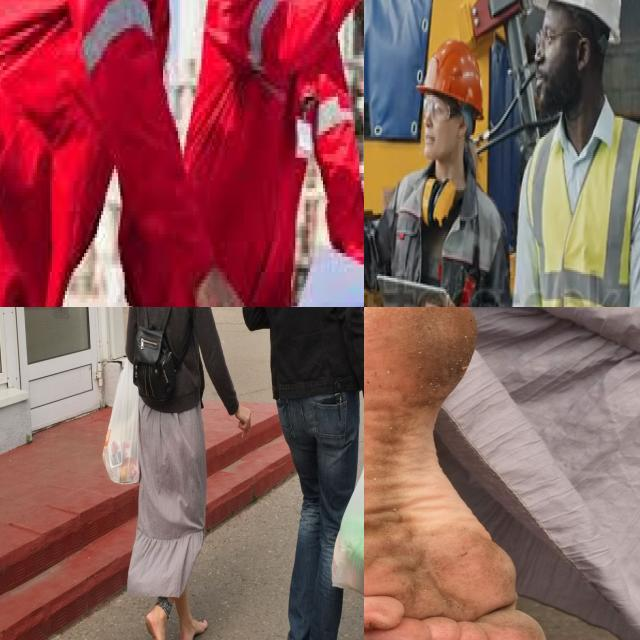Barefoots: (364, 307, 550, 640), (145, 611, 169, 640), (180, 619, 208, 640)
Ear-protection: (417, 170, 458, 233)
glasses: (531, 22, 579, 60), (421, 94, 465, 128)
head_helmet: (418, 41, 488, 121), (534, 0, 622, 49)
person: (0, 0, 235, 307), (201, 0, 364, 307), (515, 0, 640, 307), (375, 39, 514, 307)
vest: (523, 114, 640, 307)
